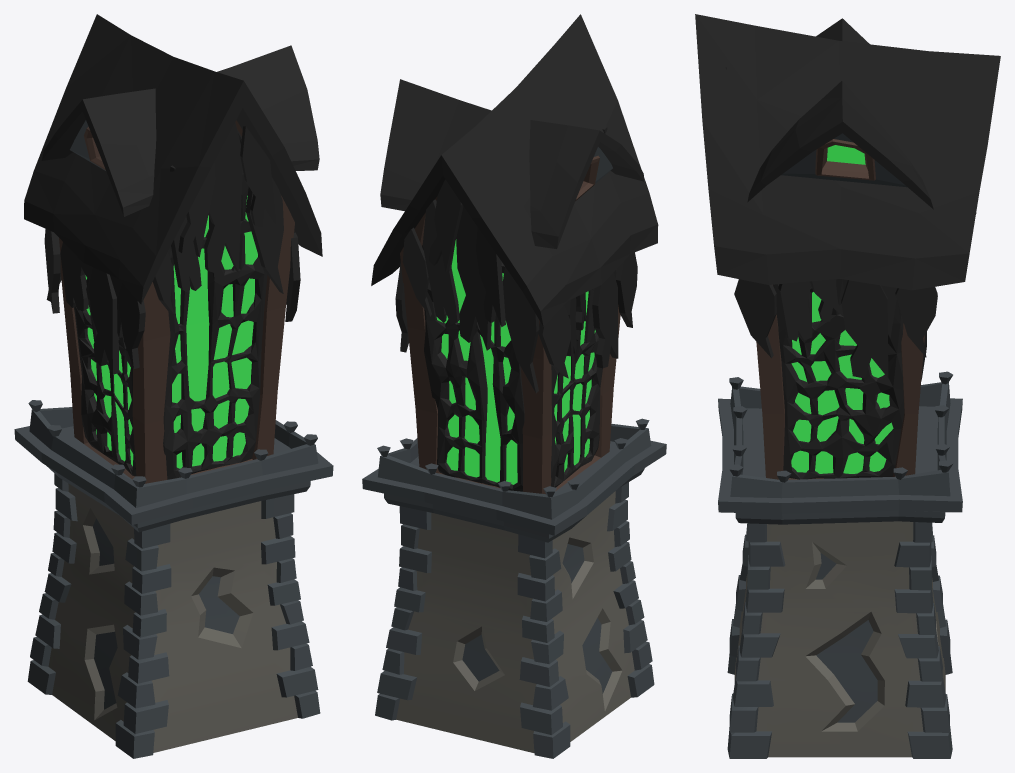
The model's file is LPHorror_HorrorTower.fbx.
3 views of the same model, side by side, from view 1: azimuth 30°, elevation 25°; view 2: azimuth 150°, elevation 25°; view 3: azimuth 270°, elevation 25° (orthographic). The views are drawn at different scales.
Visible parts, largest first — view 1: HorrorTower; view 2: HorrorTower; view 3: HorrorTower.
Boxes of the visible parts, x1,y1,x2,y2 form: HorrorTower: (14,14,333,758); HorrorTower: (362,14,666,758); HorrorTower: (695,14,1000,758).
Bounding box in the file's own units: 312 × 895 × 355.
